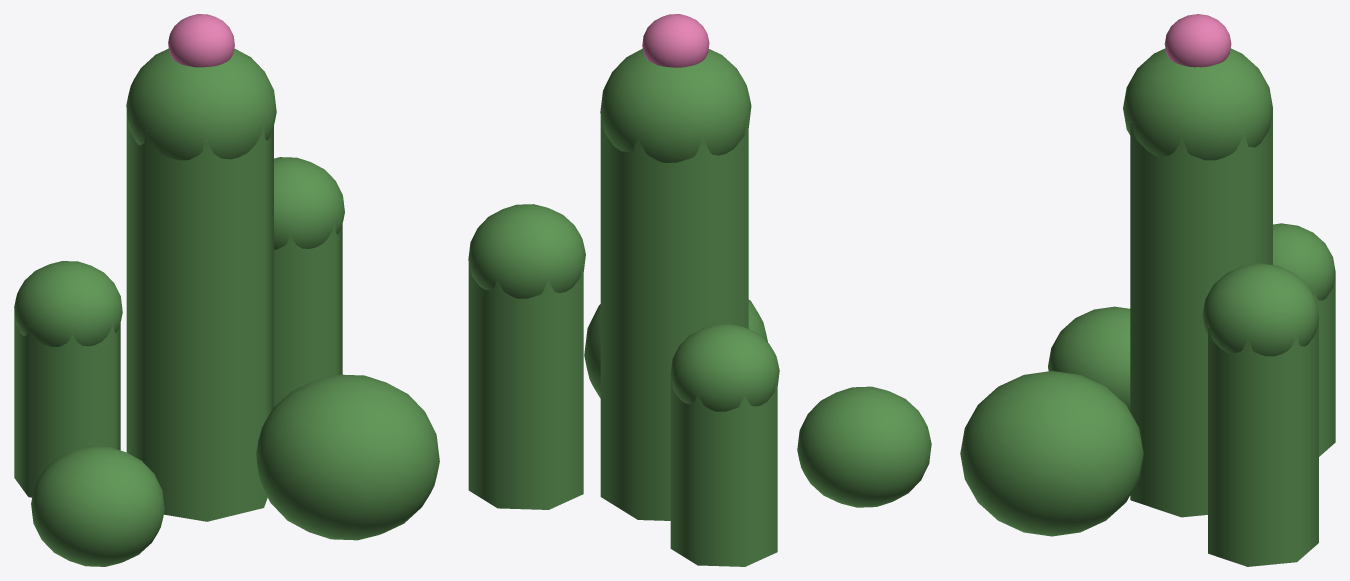
Rendered from buisson_desert_2.glb.
3 views of the same model, side by side, from view 1: azimuth 30°, elevation 25°; view 2: azimuth 150°, elevation 25°; view 3: azimuth 270°, elevation 25° (orthographic).
Visible parts, largest first — view 1: cactus_cactus.004, cactus_rose.004; view 2: cactus_cactus.004, cactus_rose.004; view 3: cactus_cactus.004, cactus_rose.004.
Part boxes in pixels (x1,y1,x2,y2): cactus_cactus.004: (14, 48, 439, 566); cactus_rose.004: (168, 14, 234, 67); cactus_cactus.004: (468, 48, 931, 566); cactus_rose.004: (642, 14, 709, 67); cactus_cactus.004: (960, 48, 1335, 566); cactus_rose.004: (1164, 14, 1231, 67).
Bounding box in the file's own units: 0.51 × 0.627 × 0.45.
